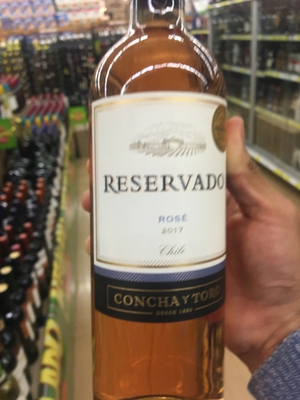reservado rose: (90, 11, 230, 400)
